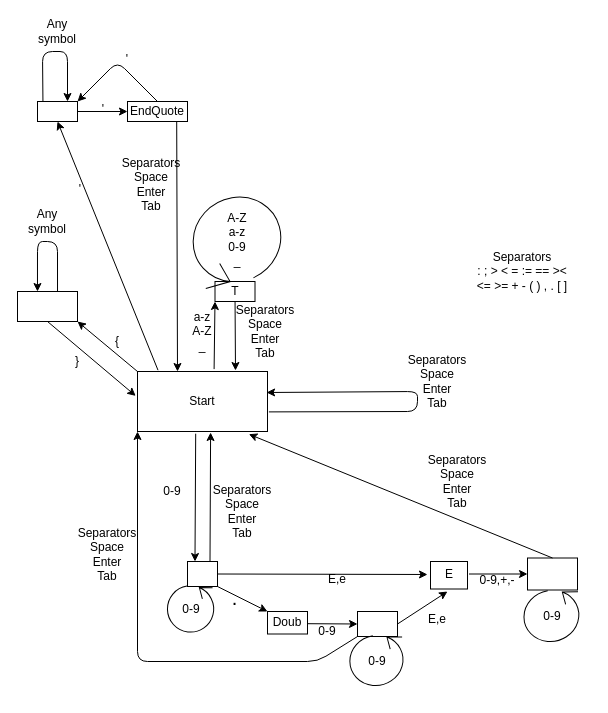
This 608x713 diagram has some shape labels left out. The shapes that lost their labels are listed below. From the top down, each one's centre as x and y in pixels, then its label:
At (57,111): "Quote".
At (47,306): "Comment".
At (202,573): "Int".
At (552,573): "Exp".
At (377,623): "Dec".
